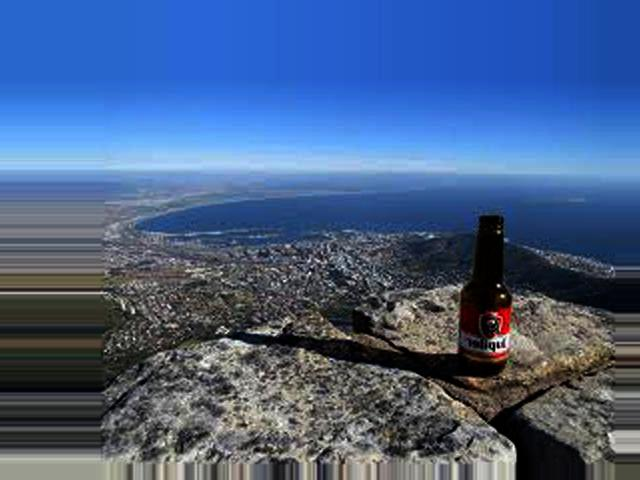beer: (458, 214, 512, 370)
